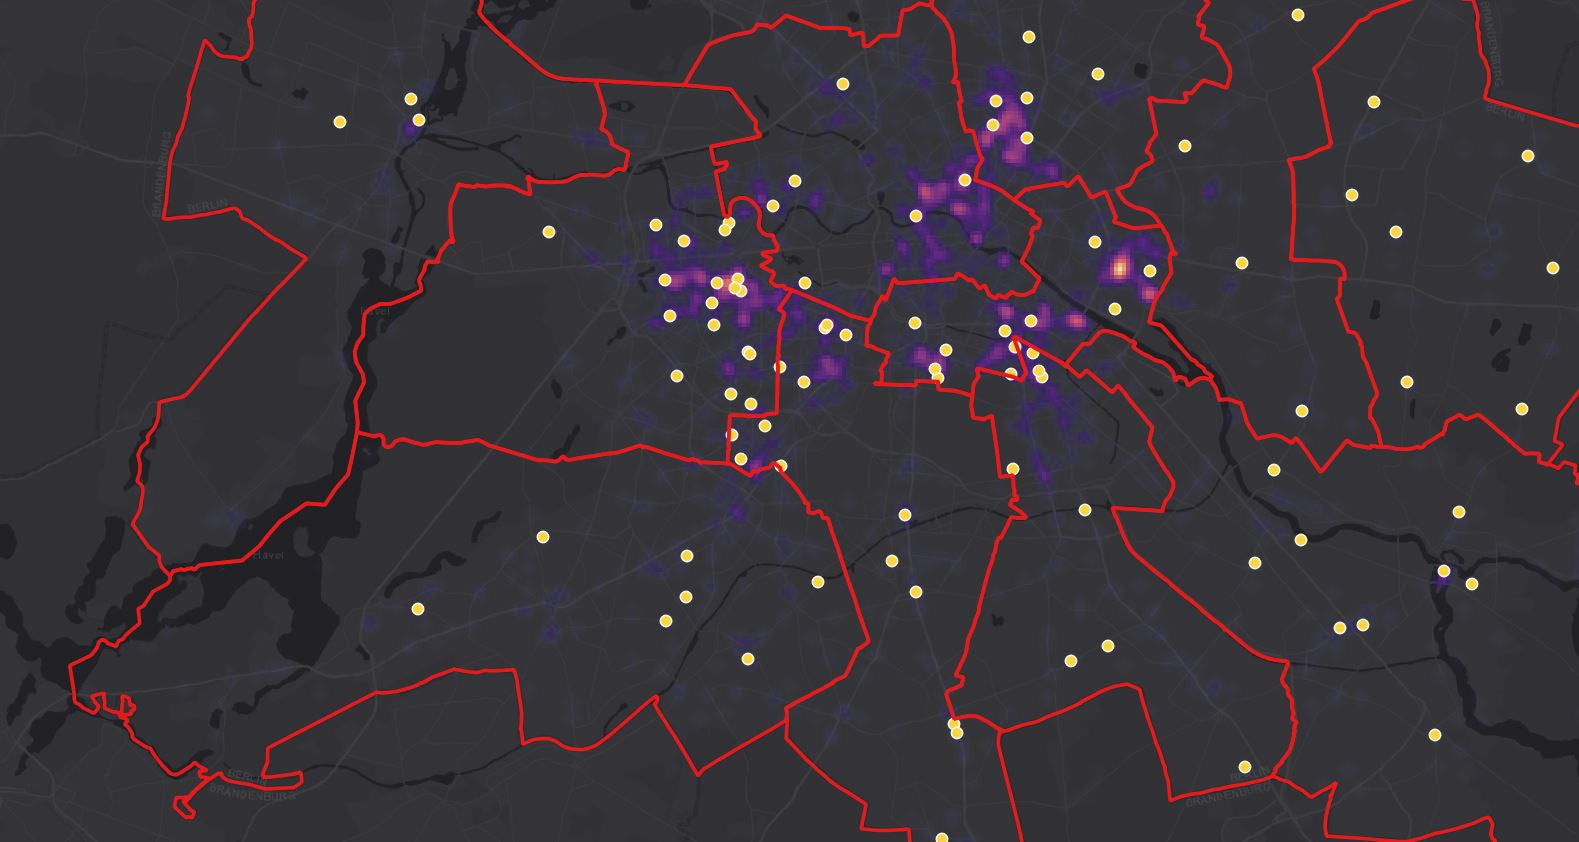

What the dashboard file says about the page in this screenshot:
{"tool":"tableau","page":{"name":"MAP_Turkey","canvas":[1000,1000],"units":"permille","ordinal":12},"visuals":[{"type":"worksheet","title":"Restaurants_Turkey","mark":"Multipolygon","box":[4.8,9.3,990.3,490.7]},{"type":"worksheet","title":"Population Turkey","mark":"Multipolygon","box":[4.8,500,990.3,490.8]}]}

Visuals, with their boxes on the dashboard's canvas, which has no fixed pixel size, in thousandths of its width and height (x1, y1, x2, y2). These are canvas units, not pixel positions in the 1579x842 screenshot, which may show the page scaled, cropped or inside an application window:
"Restaurants_Turkey" worksheet (Multipolygon marks): (x1=5, y1=9, x2=995, y2=500)
"Population Turkey" worksheet (Multipolygon marks): (x1=5, y1=500, x2=995, y2=991)
